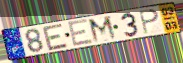3: (120, 12, 139, 39)
8: (24, 28, 45, 54)
E: (41, 22, 71, 52), (66, 18, 95, 48)
M: (87, 15, 119, 45)
P: (138, 8, 161, 36)
